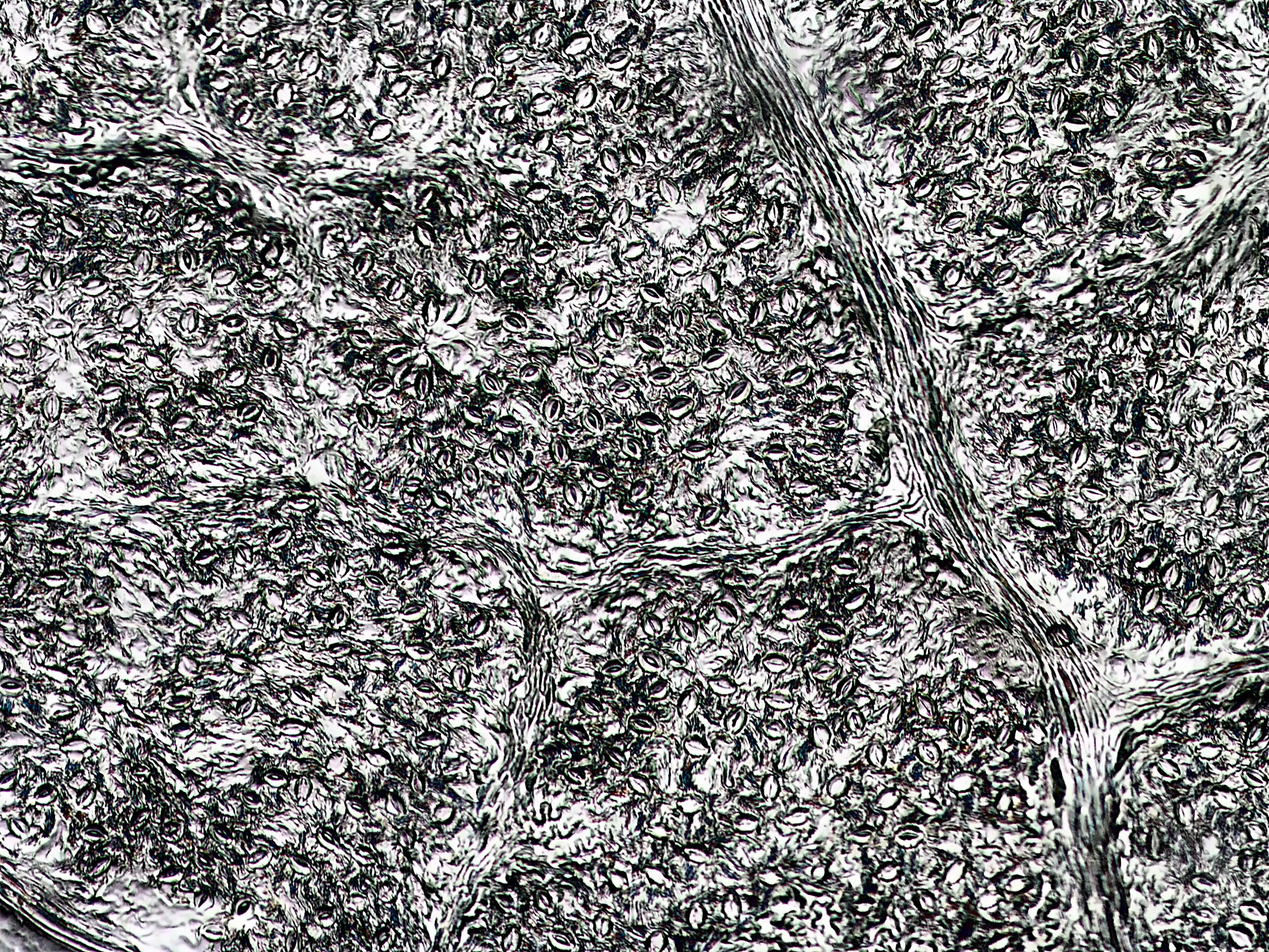stomata: (852, 22, 887, 51), (1185, 873, 1223, 898), (1172, 794, 1198, 826), (941, 856, 968, 886), (84, 8, 110, 39), (176, 243, 200, 276), (722, 887, 744, 923), (285, 683, 315, 709), (450, 1, 476, 31), (489, 440, 515, 469), (908, 20, 937, 46), (641, 864, 672, 888), (1190, 904, 1221, 928), (230, 894, 257, 921), (44, 313, 72, 339), (761, 691, 794, 713), (639, 930, 672, 952), (237, 13, 266, 38), (1243, 716, 1267, 746), (546, 928, 577, 951), (893, 825, 924, 848), (226, 228, 252, 255), (963, 684, 990, 710), (1215, 424, 1241, 451), (245, 845, 273, 870), (700, 348, 728, 373), (591, 906, 611, 941), (917, 740, 942, 768), (1071, 528, 1096, 556), (495, 41, 524, 65), (78, 274, 108, 297), (602, 312, 625, 342), (758, 771, 780, 802), (300, 46, 320, 80), (550, 432, 570, 466), (726, 379, 752, 405), (581, 407, 606, 434), (913, 106, 938, 133), (780, 807, 812, 828), (1025, 510, 1057, 531), (529, 21, 552, 50), (420, 294, 439, 329), (659, 177, 681, 207), (682, 842, 712, 864), (1160, 559, 1182, 589), (220, 653, 251, 674), (706, 674, 737, 695), (563, 34, 589, 59), (366, 119, 393, 143), (138, 201, 162, 228), (118, 303, 142, 330), (638, 649, 665, 673), (114, 418, 148, 437), (320, 1, 348, 24), (605, 49, 633, 72), (587, 279, 610, 307), (783, 365, 811, 388), (1138, 179, 1166, 202), (733, 233, 765, 253), (1132, 709, 1164, 729), (326, 747, 348, 776), (542, 394, 564, 423), (680, 438, 709, 460), (1061, 112, 1090, 134), (942, 260, 964, 289), (329, 549, 350, 579), (625, 137, 646, 167), (844, 825, 877, 844), (198, 30, 223, 55), (274, 318, 300, 342), (463, 612, 487, 638), (494, 890, 520, 914), (288, 852, 315, 875), (722, 707, 745, 734), (1139, 585, 1159, 616), (376, 47, 404, 69), (400, 600, 428, 622), (682, 736, 710, 758), (731, 811, 759, 833), (801, 443, 830, 464), (1068, 441, 1089, 470), (1195, 740, 1224, 761), (293, 775, 312, 807), (60, 213, 84, 238), (261, 237, 281, 267), (233, 695, 257, 720), (714, 168, 738, 193), (564, 477, 584, 507), (951, 715, 971, 745), (1120, 61, 1144, 86), (1108, 517, 1128, 547), (1242, 581, 1266, 606), (222, 313, 248, 336), (385, 791, 408, 817), (469, 76, 495, 99), (413, 220, 436, 246), (874, 788, 900, 811), (948, 769, 974, 792), (1067, 152, 1093, 175), (262, 347, 284, 374), (180, 606, 207, 628), (478, 368, 500, 395), (762, 652, 789, 674), (1089, 197, 1116, 219), (276, 717, 307, 736), (646, 366, 677, 385), (817, 413, 848, 432), (686, 900, 705, 931), (327, 94, 348, 122), (131, 247, 152, 275), (233, 542, 254, 570), (468, 262, 489, 290), (636, 412, 664, 433), (1122, 438, 1150, 459), (1239, 453, 1267, 474), (1080, 482, 1108, 503), (1201, 488, 1222, 516), (1241, 767, 1269, 788), (43, 261, 63, 290), (613, 86, 633, 115), (1228, 361, 1248, 390), (87, 856, 111, 880), (414, 368, 432, 400), (607, 867, 631, 891), (1051, 84, 1069, 116), (182, 209, 207, 232), (552, 280, 577, 303), (628, 477, 651, 502), (935, 54, 960, 77), (993, 263, 1018, 286), (1212, 786, 1237, 809), (1229, 926, 1254, 949), (429, 54, 451, 80), (16, 207, 42, 229), (528, 93, 554, 115), (667, 396, 693, 418), (780, 597, 806, 619), (818, 621, 844, 643), (998, 113, 1024, 135), (410, 679, 440, 698), (612, 199, 631, 229), (765, 197, 784, 227), (701, 271, 720, 301), (677, 688, 696, 718), (1146, 30, 1165, 60), (142, 386, 169, 407), (530, 243, 557, 264), (571, 346, 598, 367), (835, 673, 856, 700), (812, 661, 839, 682), (1024, 17, 1045, 44), (1022, 207, 1043, 234), (85, 597, 113, 617), (524, 183, 552, 203), (913, 691, 933, 719), (1002, 145, 1030, 165), (162, 695, 193, 713), (867, 739, 885, 770), (388, 75, 411, 99), (50, 74, 74, 97), (34, 782, 58, 805), (345, 797, 368, 821), (521, 468, 544, 492), (826, 774, 849, 798), (1217, 608, 1240, 632), (41, 392, 60, 421), (227, 611, 256, 630), (718, 204, 747, 223), (876, 53, 905, 72), (261, 47, 286, 69), (372, 927, 394, 952), (953, 120, 975, 145), (192, 547, 218, 568), (572, 83, 593, 109), (378, 194, 404, 215), (367, 377, 393, 398), (753, 334, 779, 355), (1003, 180, 1035, 197), (1045, 229, 1077, 246), (273, 81, 293, 108), (639, 284, 666, 304), (622, 435, 642, 462), (1173, 330, 1193, 357), (1026, 477, 1053, 497), (191, 387, 219, 406), (365, 747, 393, 766), (586, 469, 614, 488), (952, 180, 980, 199), (1055, 186, 1083, 205), (603, 746, 626, 769), (7, 251, 29, 275), (59, 739, 92, 755), (162, 818, 184, 842), (189, 888, 213, 910), (720, 112, 744, 134), (685, 149, 709, 171), (877, 861, 901, 883), (1135, 331, 1157, 355), (1155, 449, 1177, 473), (198, 922, 229, 939), (225, 367, 250, 388), (178, 653, 199, 678), (654, 76, 679, 97), (502, 312, 527, 333), (703, 224, 724, 249), (671, 303, 692, 328), (565, 724, 590, 745), (630, 714, 655, 735), (498, 927, 519, 952), (405, 641, 434, 659), (1181, 26, 1199, 55), (237, 789, 263, 809), (609, 379, 635, 399), (992, 76, 1012, 102), (1091, 36, 1117, 56), (1238, 901, 1264, 921), (180, 307, 199, 334), (812, 721, 831, 748), (984, 216, 1011, 235), (1244, 321, 1263, 348), (1206, 553, 1225, 580), (287, 494, 317, 511), (99, 216, 122, 238), (416, 188, 438, 211), (958, 13, 981, 35), (1182, 592, 1204, 615), (363, 654, 391, 672), (345, 892, 369, 913), (458, 464, 479, 488), (518, 363, 542, 384), (762, 445, 790, 463), (677, 615, 698, 639), (678, 792, 702, 813), (535, 888, 556, 912), (1099, 93, 1120, 117), (941, 213, 965, 234), (1148, 150, 1172, 171), (1132, 296, 1153, 320), (1064, 367, 1082, 395), (1236, 491, 1254, 519), (210, 266, 235, 286), (76, 783, 96, 808), (450, 664, 470, 689), (352, 251, 372, 276), (1137, 501, 1162, 521), (19, 629, 45, 648), (0, 677, 26, 696), (1184, 151, 1210, 170), (1146, 369, 1165, 395), (750, 299, 767, 328), (779, 285, 796, 314), (236, 101, 254, 128), (574, 225, 601, 243), (495, 415, 522, 433), (790, 479, 817, 497), (648, 822, 675, 840), (756, 869, 783, 887), (1184, 527, 1202, 554), (432, 802, 454, 824), (575, 191, 597, 213), (697, 503, 719, 525), (268, 526, 291, 547), (431, 490, 454, 511), (715, 601, 736, 624), (642, 613, 662, 637), (919, 890, 939, 914), (1213, 113, 1233, 137), (1009, 440, 1039, 456), (1045, 412, 1065, 436), (415, 731, 443, 748), (268, 137, 293, 156), (237, 401, 262, 420), (352, 846, 377, 865), (568, 124, 593, 143), (387, 275, 406, 300), (621, 240, 646, 259), (1187, 413, 1206, 438), (1156, 757, 1181, 776), (97, 383, 123, 401), (281, 627, 307, 645), (1110, 328, 1128, 354), (156, 866, 185, 882), (210, 821, 232, 842), (1144, 409, 1165, 431), (210, 70, 233, 90), (42, 572, 69, 589), (331, 603, 348, 630), (915, 797, 942, 814), (1182, 88, 1209, 105), (246, 273, 270, 292), (602, 147, 620, 172), (847, 708, 865, 733), (182, 179, 210, 195), (360, 403, 376, 431), (1212, 311, 1228, 339), (50, 702, 76, 719), (80, 825, 106, 842), (98, 698, 124, 715), (410, 430, 427, 456), (8, 817, 29, 838), (316, 827, 337, 848), (314, 905, 335, 926), (497, 104, 518, 125), (194, 849, 214, 871), (646, 678, 666, 700), (171, 412, 194, 431), (303, 567, 326, 586), (818, 383, 841, 402), (581, 696, 604, 715), (5, 340, 29, 358), (266, 587, 284, 611), (263, 768, 287, 786), (347, 329, 371, 347), (600, 659, 624, 677), (1071, 46, 1087, 73), (47, 538, 72, 555), (382, 539, 407, 556), (1095, 365, 1112, 390), (10, 577, 30, 598), (143, 350, 165, 369), (843, 590, 865, 609), (835, 556, 857, 575), (377, 879, 395, 902), (501, 268, 524, 286), (77, 56, 97, 76), (168, 723, 193, 739), (366, 709, 391, 725), (531, 131, 551, 151), (672, 256, 692, 276), (385, 347, 410, 363), (565, 766, 590, 782), (629, 772, 649, 792), (1135, 547, 1155, 567), (129, 808, 148, 829), (364, 571, 385, 590), (267, 0, 289, 18), (67, 770, 89, 788), (639, 336, 662, 353), (1140, 215, 1163, 232), (101, 344, 125, 360), (462, 404, 482, 423), (550, 0, 571, 18), (434, 449, 452, 470), (214, 186, 231, 208), (398, 828, 415, 850), (360, 471, 377, 493), (1041, 543, 1058, 565), (327, 642, 350, 658), (801, 307, 817, 330), (764, 718, 783, 737), (913, 178, 932, 197), (0, 771, 20, 789), (498, 222, 519, 239), (0, 82, 16, 104), (1081, 1, 1096, 22), (115, 468, 137, 482), (509, 0, 523, 22), (845, 475, 865, 490), (855, 0, 882, 11), (403, 477, 418, 491)
